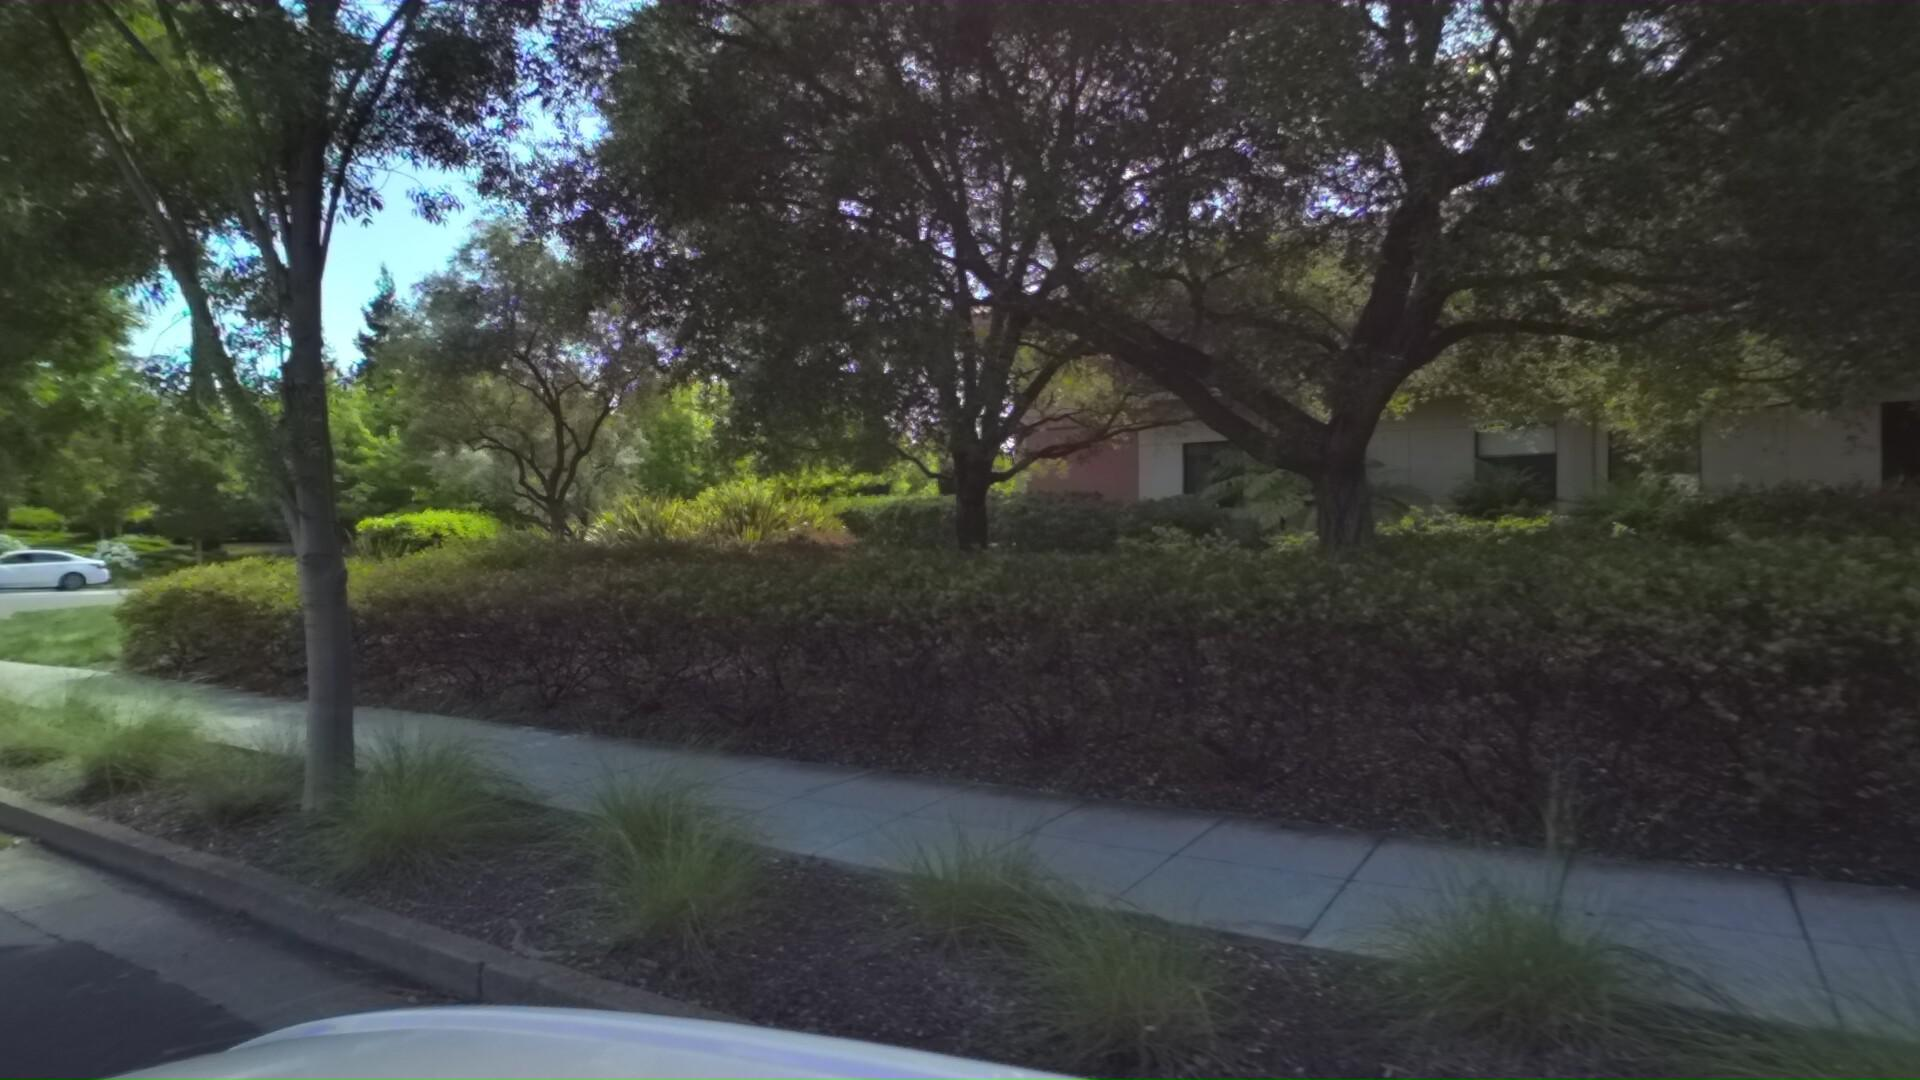car: (0, 537, 104, 591)
